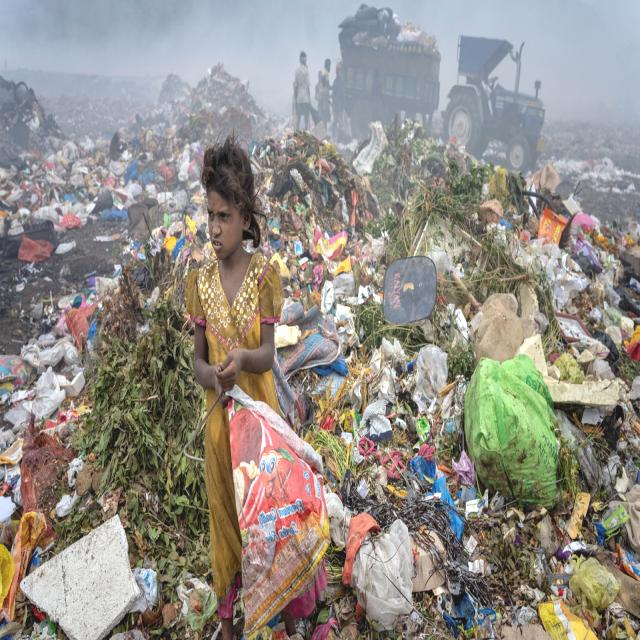garbage: (0, 104, 637, 640)
